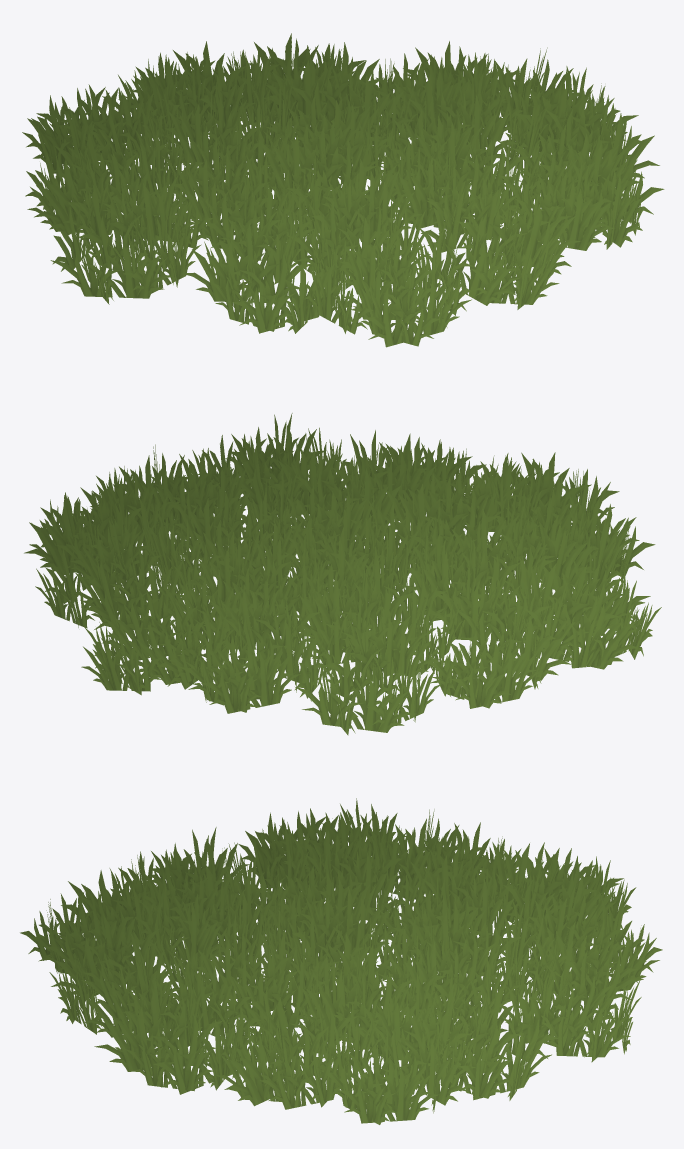
Rendered from SM_Env_Grass_Tall_Clump_05.fbx.
3 views of the same model, one above another, from view 1: azimuth 30°, elevation 25°; view 2: azimuth 150°, elevation 25°; view 3: azimuth 270°, elevation 25° (orthographic).
Visible parts, largest first — view 1: SM_Env_Grass_Tall_Clump_05_LOD0; view 2: SM_Env_Grass_Tall_Clump_05_LOD0; view 3: SM_Env_Grass_Tall_Clump_05_LOD0.
Boxes of the visible parts, x1,y1,x2,y2 form: SM_Env_Grass_Tall_Clump_05_LOD0: (22, 33, 664, 347); SM_Env_Grass_Tall_Clump_05_LOD0: (24, 413, 661, 735); SM_Env_Grass_Tall_Clump_05_LOD0: (20, 798, 662, 1124).
Size of what is drawn, in the model's own units: 733 by 144 by 696.
